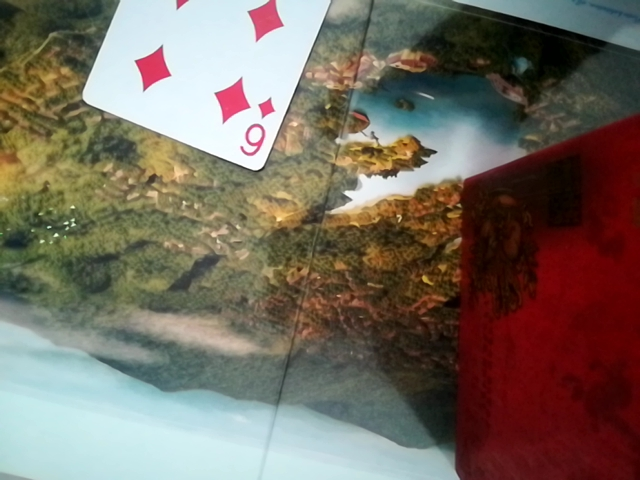fk 6: (75, 1, 342, 169)
